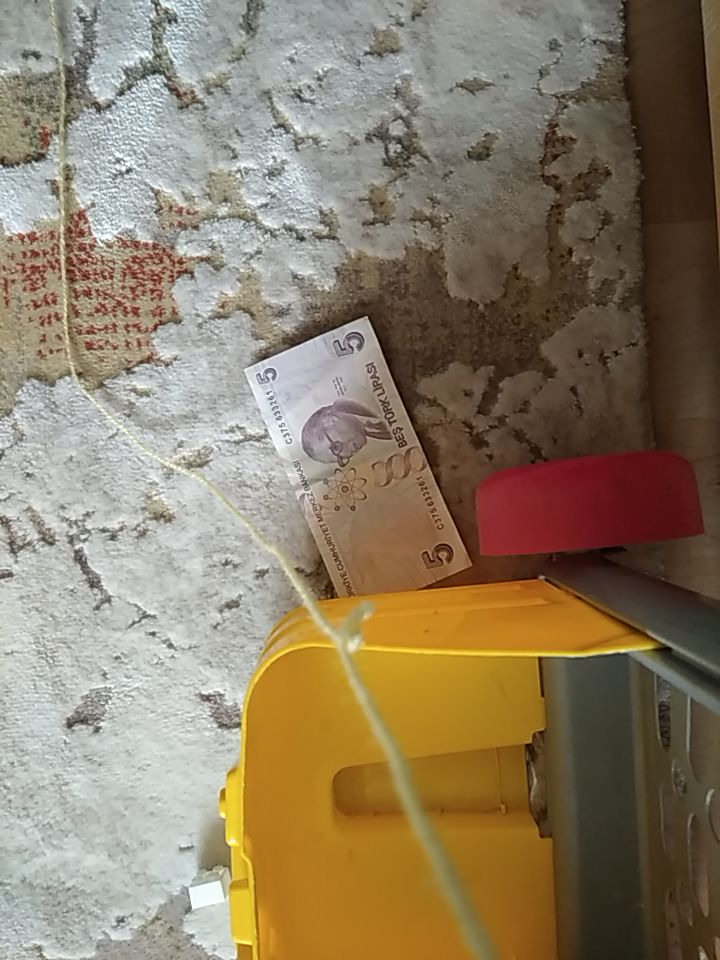5TL: (241, 315, 476, 601)
